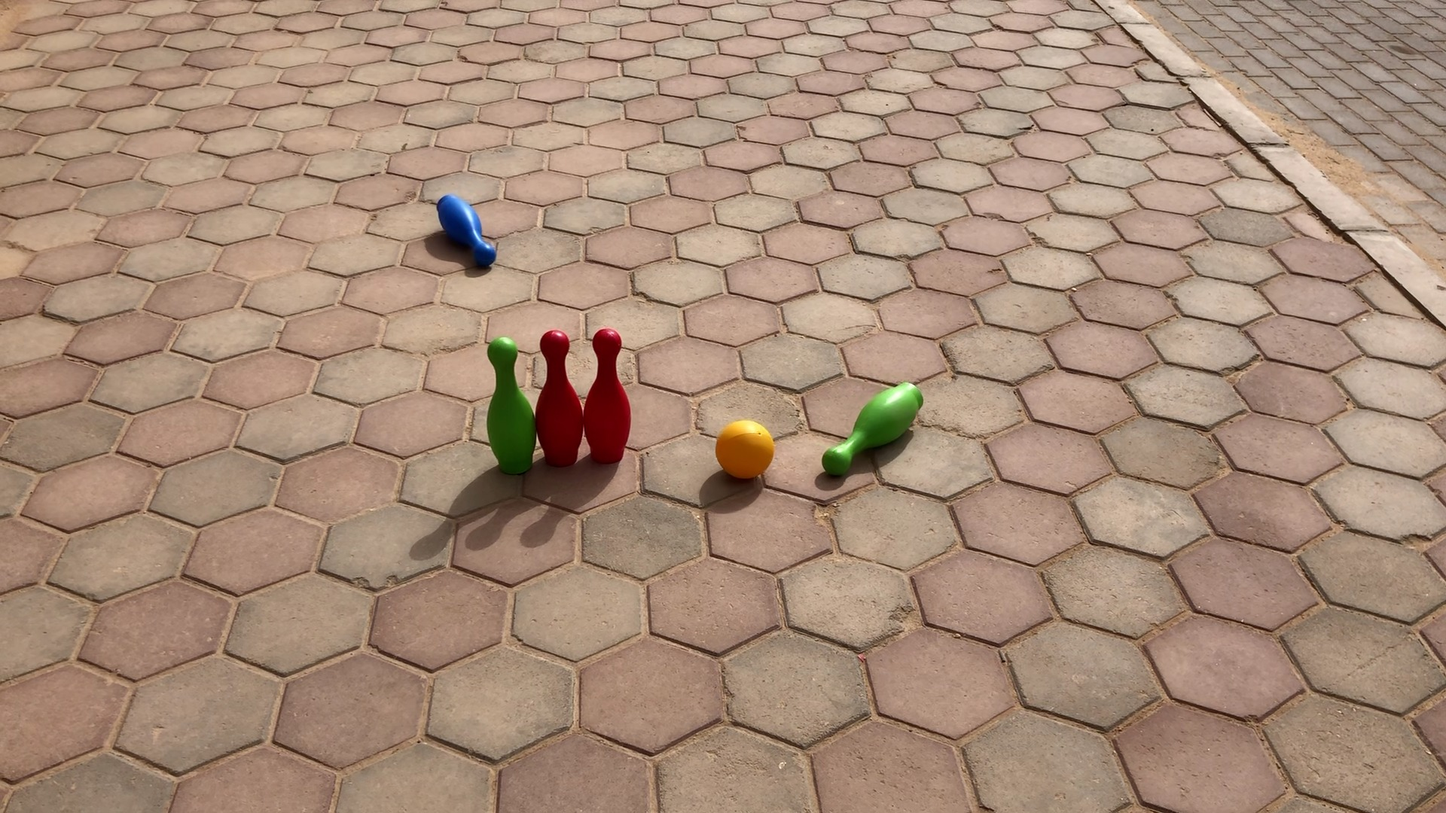bowling-pin: (822, 384, 920, 477), (487, 335, 535, 472), (580, 327, 628, 463), (535, 331, 581, 466), (438, 195, 499, 267)
